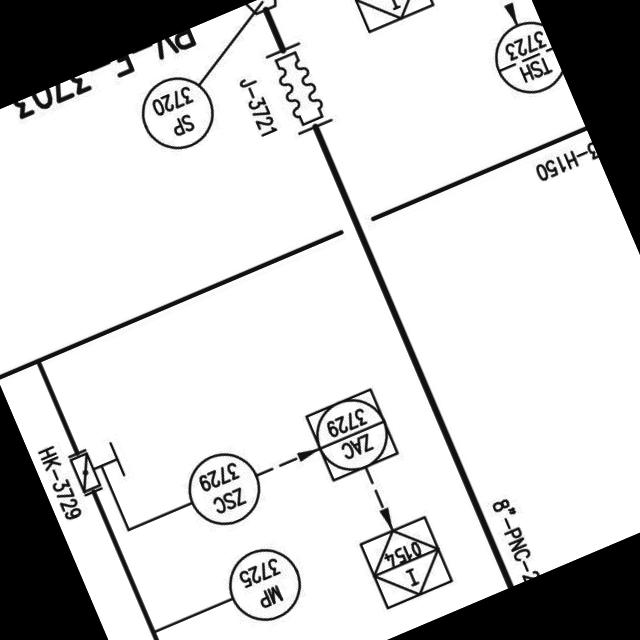BV: (64, 432, 133, 501)
EJ: (258, 34, 342, 144)
